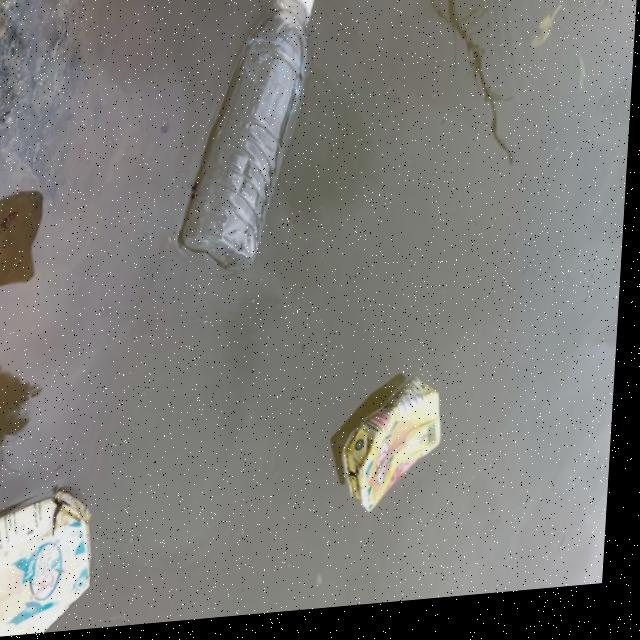paper: (322, 379, 473, 528)
waterbottle: (168, 0, 328, 286)
